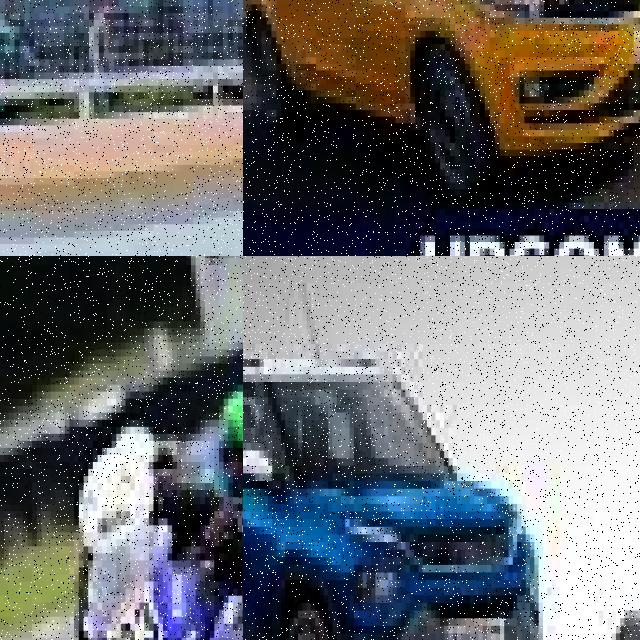bike: (55, 525, 243, 640), (223, 384, 243, 560)
car: (243, 301, 545, 640), (259, 0, 640, 185), (470, 534, 640, 640)
